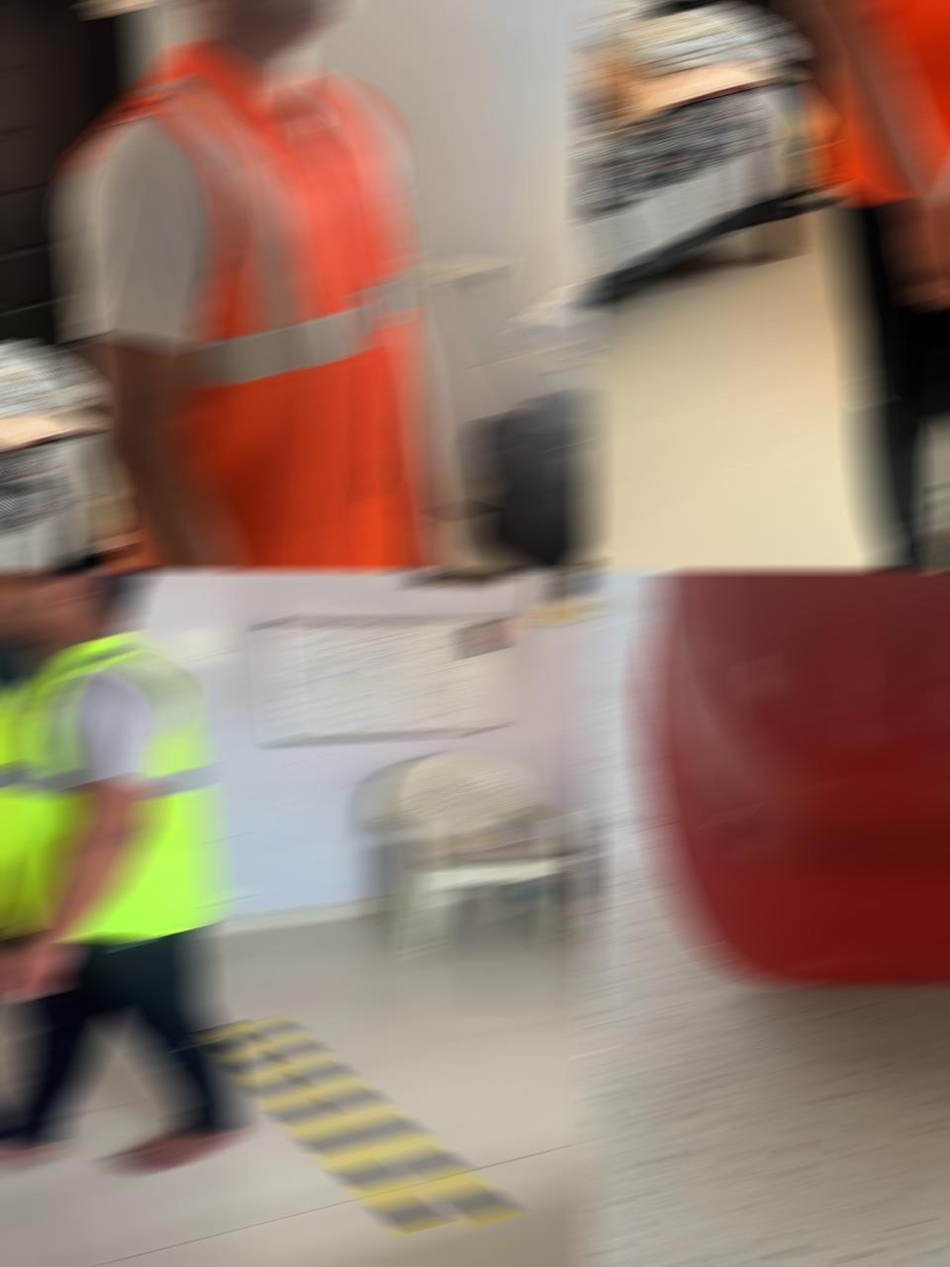BorderLine: (204, 1018, 514, 1232)
Helmet: (632, 571, 950, 984)
No_Helmet: (0, 571, 146, 643)
Person: (58, 1, 466, 569), (0, 571, 246, 1171), (763, 1, 950, 568)
Vest: (65, 37, 413, 569), (0, 634, 221, 937), (765, 1, 950, 202)
